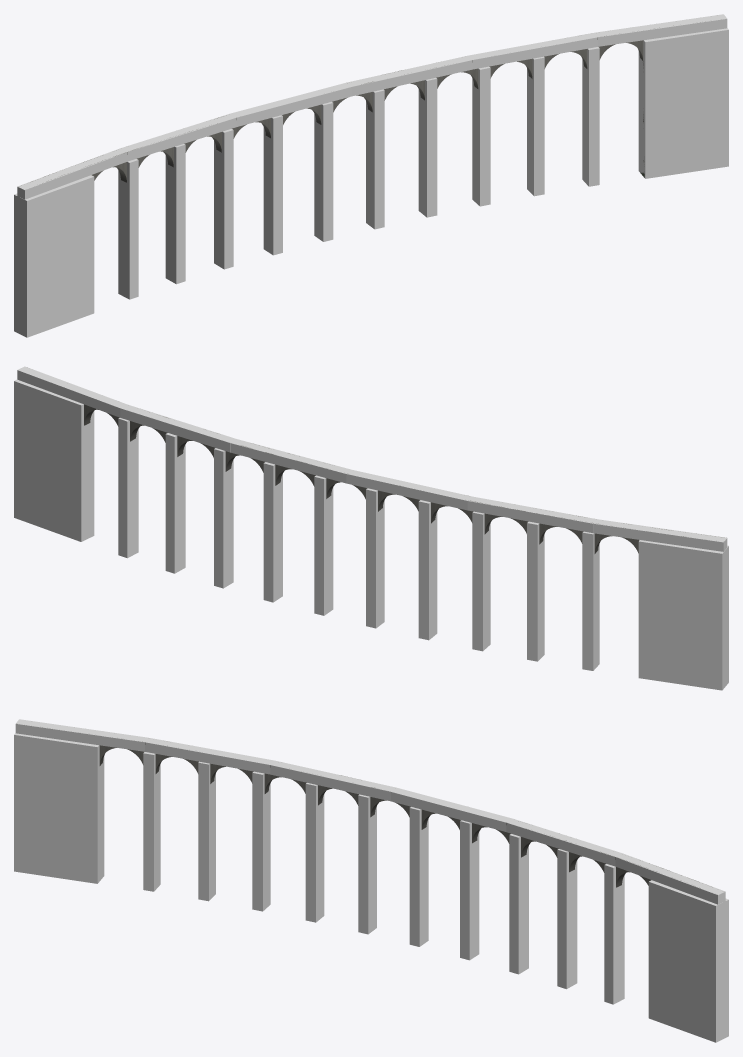
Rendered from viaduct.glb.
3 views of the same model, one above another, from view 1: azimuth 30°, elevation 25°; view 2: azimuth 150°, elevation 25°; view 3: azimuth 330°, elevation 25° (orthographic).
Visible parts, largest first — view 1: solid_abutment_east, solid_abutment_west, solid_pier_1, solid_pier_2, solid_pier_7, solid_pier_5, viaduct, solid_pier_3, solid_pier_4, solid_pier_8, solid_pier_6, solid_pier_10 (+7 smaller); view 2: solid_abutment_west, solid_abutment_east, solid_pier_9, viaduct, solid_pier_10, solid_pier_4, solid_pier_6, solid_pier_7, solid_pier_8, solid_pier_3, solid_pier_5, solid_pier_2 (+7 smaller); view 3: solid_abutment_west, solid_abutment_east, solid_pier_10, solid_pier_9, solid_pier_4, solid_pier_6, solid_pier_8, solid_pier_7, viaduct, solid_pier_3, solid_pier_5, solid_pier_1 (+7 smaller).
Part boxes in pixels (x1,y1,x2,y2): solid_abutment_east: (638, 28, 728, 178); solid_abutment_west: (14, 175, 94, 337); solid_pier_1: (118, 159, 138, 299); solid_pier_2: (165, 144, 185, 284); solid_pier_7: (418, 78, 437, 217); solid_pier_5: (314, 102, 333, 241); viaduct: (21, 21, 705, 185); solid_pier_3: (214, 129, 233, 269); solid_pier_4: (263, 115, 282, 255); solid_pier_8: (472, 66, 490, 206); solid_pier_6: (366, 89, 384, 229); solid_pier_10: (582, 47, 599, 186); solid_abutment_west: (638, 540, 728, 690); solid_abutment_east: (14, 379, 94, 541); solid_pier_9: (165, 433, 185, 573); viaduct: (27, 367, 726, 553); solid_pier_10: (118, 418, 138, 558); solid_pier_4: (418, 500, 437, 640); solid_pier_6: (314, 475, 333, 615); solid_pier_7: (263, 462, 282, 602); solid_pier_8: (214, 448, 233, 588); solid_pier_3: (472, 511, 490, 651); solid_pier_5: (366, 488, 384, 628); solid_pier_2: (527, 521, 544, 661); solid_abutment_west: (14, 733, 104, 883); solid_abutment_east: (648, 880, 728, 1042); solid_pier_10: (604, 864, 624, 1004); solid_pier_9: (557, 849, 577, 989); solid_pier_4: (305, 783, 324, 922); solid_pier_6: (409, 807, 428, 946); solid_pier_8: (509, 834, 528, 974); solid_pier_7: (460, 820, 479, 960); viaduct: (16, 723, 717, 894); solid_pier_3: (252, 771, 270, 911); solid_pier_5: (358, 794, 376, 934); solid_pier_1: (143, 752, 160, 891).
Bounding box in the file's own units: 640 × 126 × 51.58.
1 material, 1 textured.
